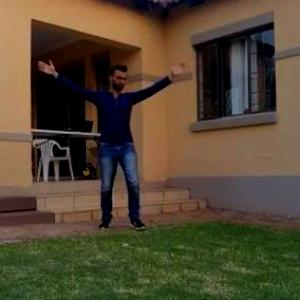takeoff: (37, 58, 185, 222)
